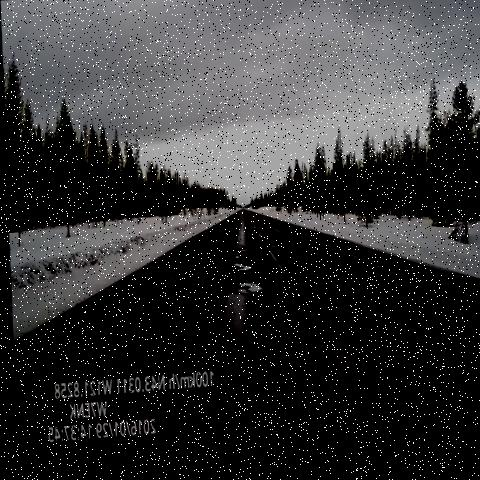pothole: (227, 274, 262, 314), (228, 246, 254, 283)
